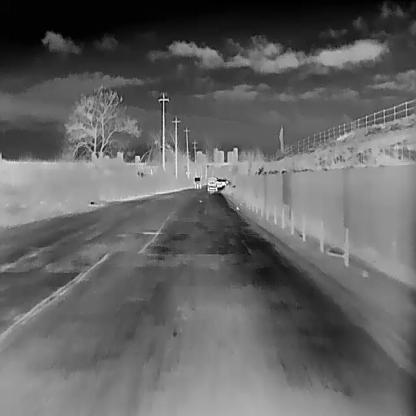car: (206, 177, 216, 191), (192, 176, 202, 188), (216, 178, 221, 187), (222, 179, 228, 184)
